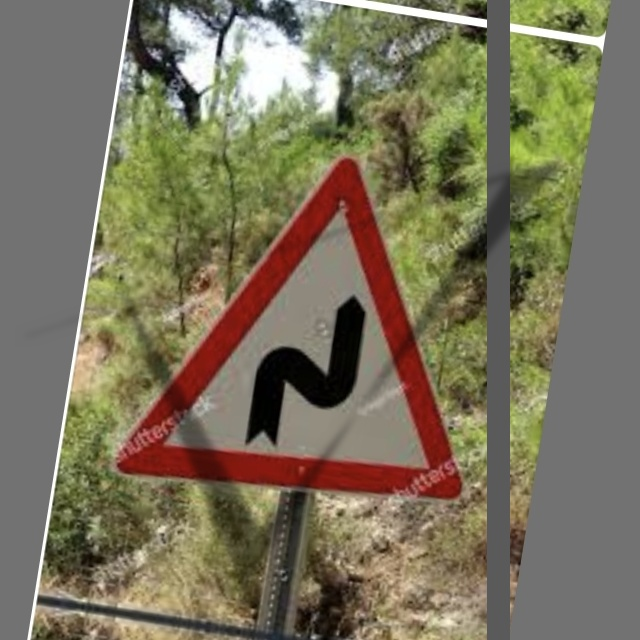Right_Reverse_Bend: (115, 126, 511, 507)
